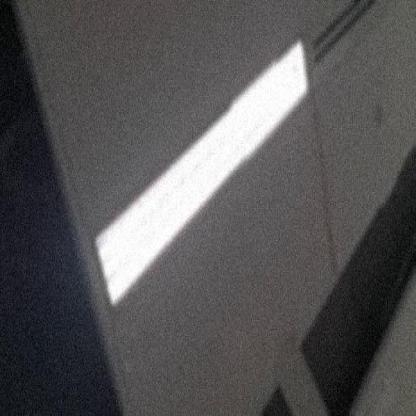light_on: (82, 22, 328, 344)
